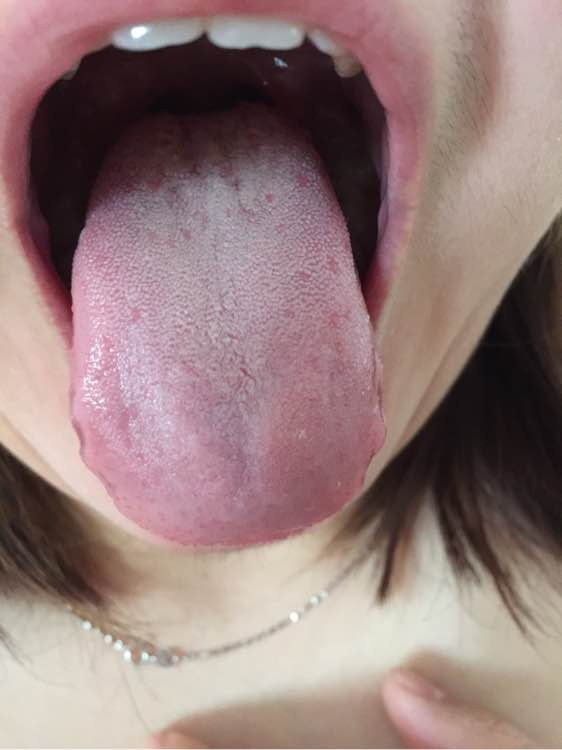baitaishe: (67, 102, 385, 546)
hongdianshe: (260, 187, 275, 207)
